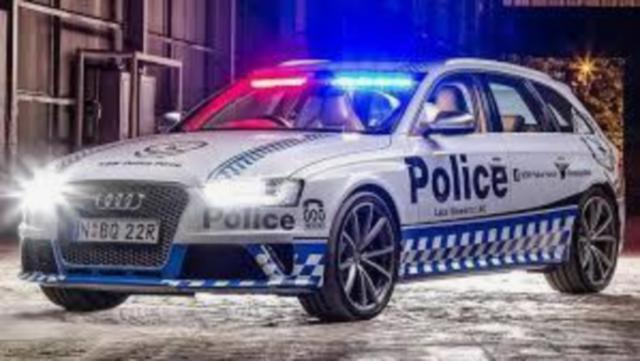police: (17, 56, 623, 325)
